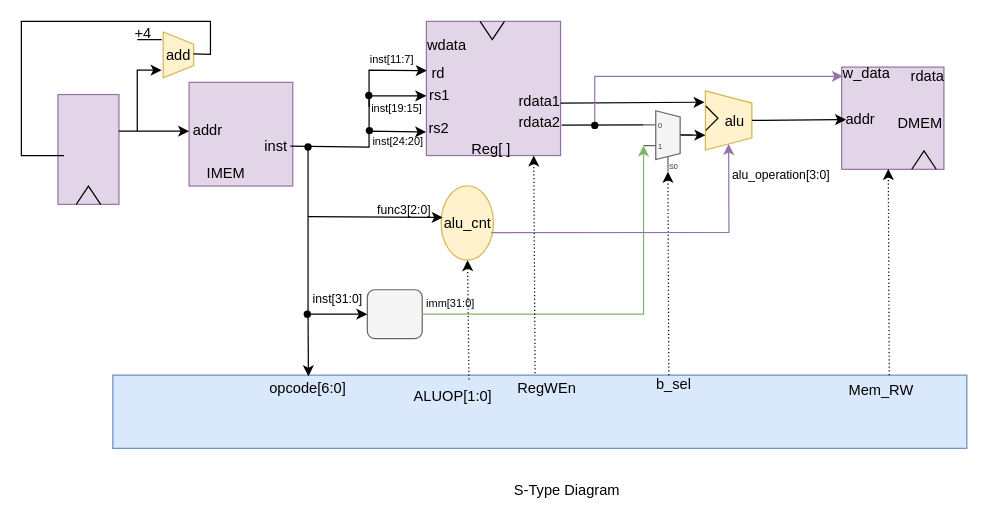
The diagram is 988 pixels wide and 531 high, and some of its shapes have lost their labels. The box of each missing label's shape, as (x1, y1, x2, y2) in pixels:
Imm. Gen: (366, 289, 422, 339)
PC: (57, 93, 119, 204)
